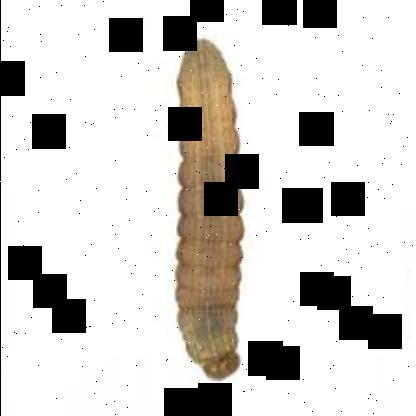oruga: (159, 38, 255, 386)
